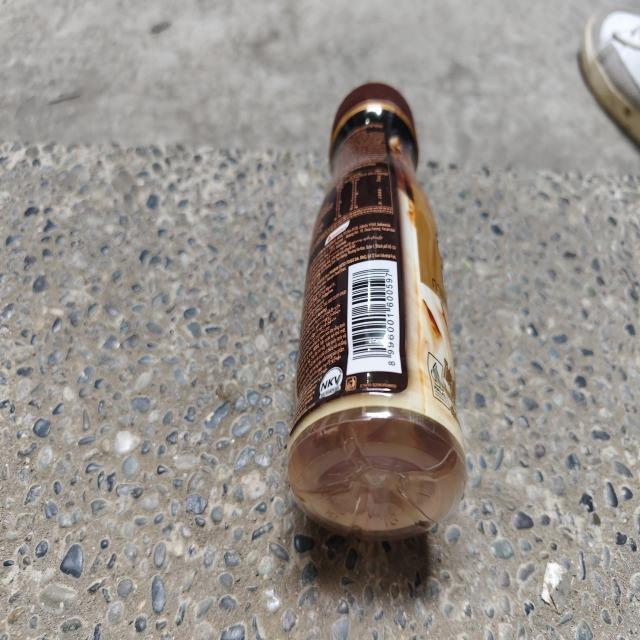Bottle: (287, 82, 468, 532)
